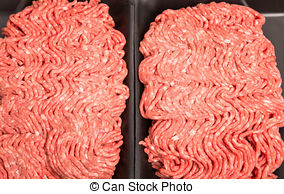ground_beef: (142, 13, 275, 173), (5, 5, 116, 172)
